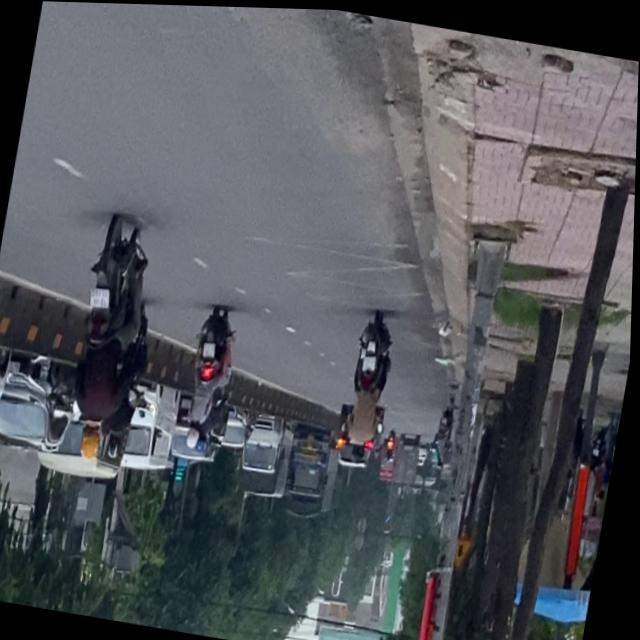helmet: (78, 420, 104, 461)
licenseplate: (58, 211, 160, 467)
nohelmet: (90, 287, 111, 309)
